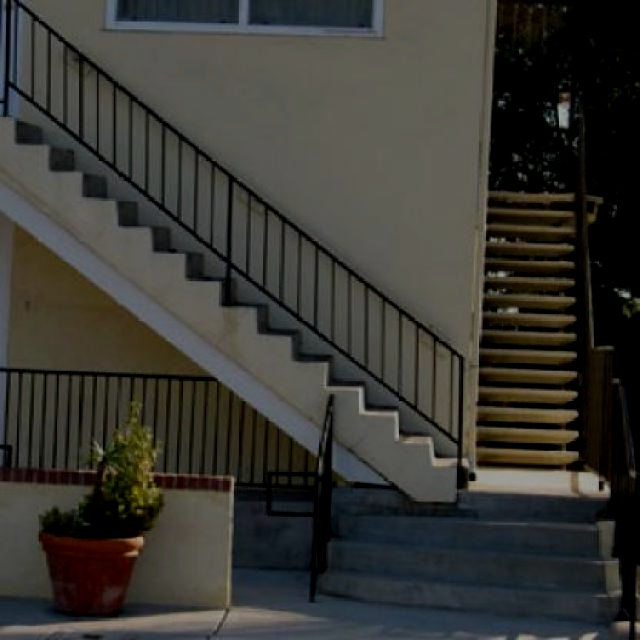stair: (2, 0, 488, 509), (466, 148, 619, 508)
